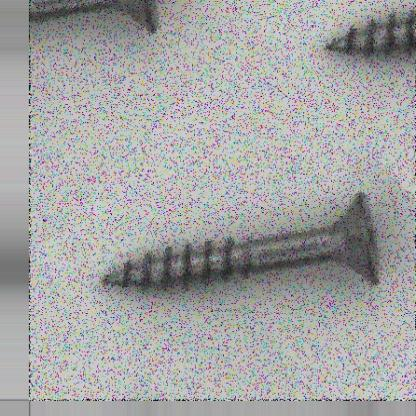metal: (99, 194, 382, 293)
